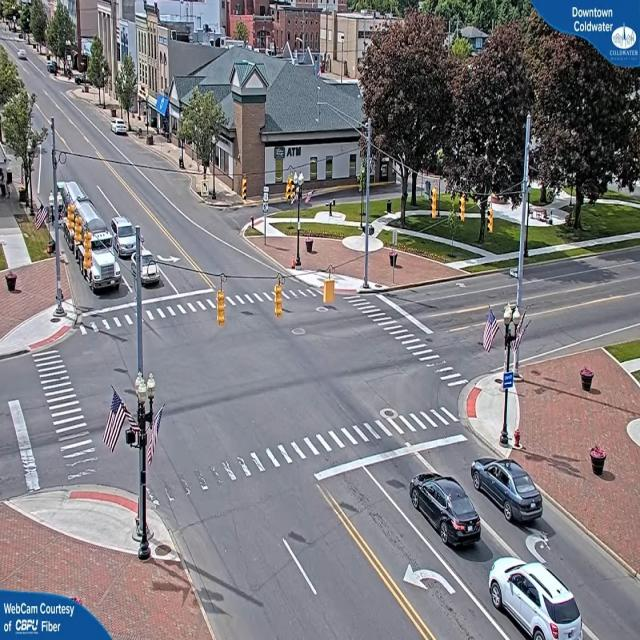car: (490, 561, 588, 640), (410, 477, 482, 551), (472, 460, 544, 526), (109, 218, 142, 258), (143, 258, 162, 288), (112, 122, 130, 138), (18, 51, 28, 63)
truck: (82, 243, 121, 293)
